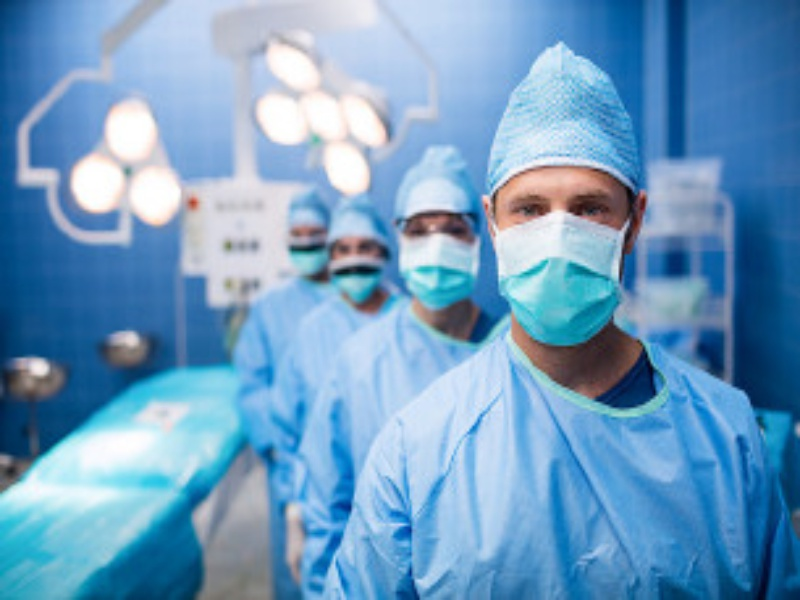mask: (493, 58, 656, 342), (390, 155, 488, 309), (334, 194, 392, 301), (280, 194, 328, 274)
